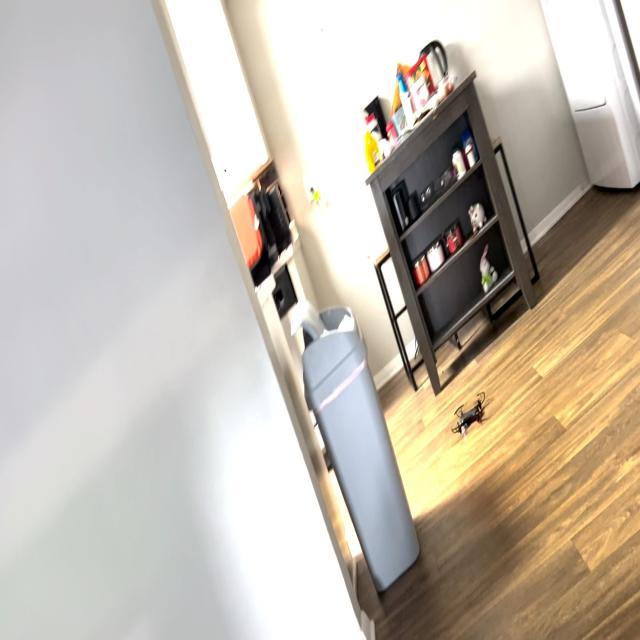drone: (446, 382, 496, 446)
